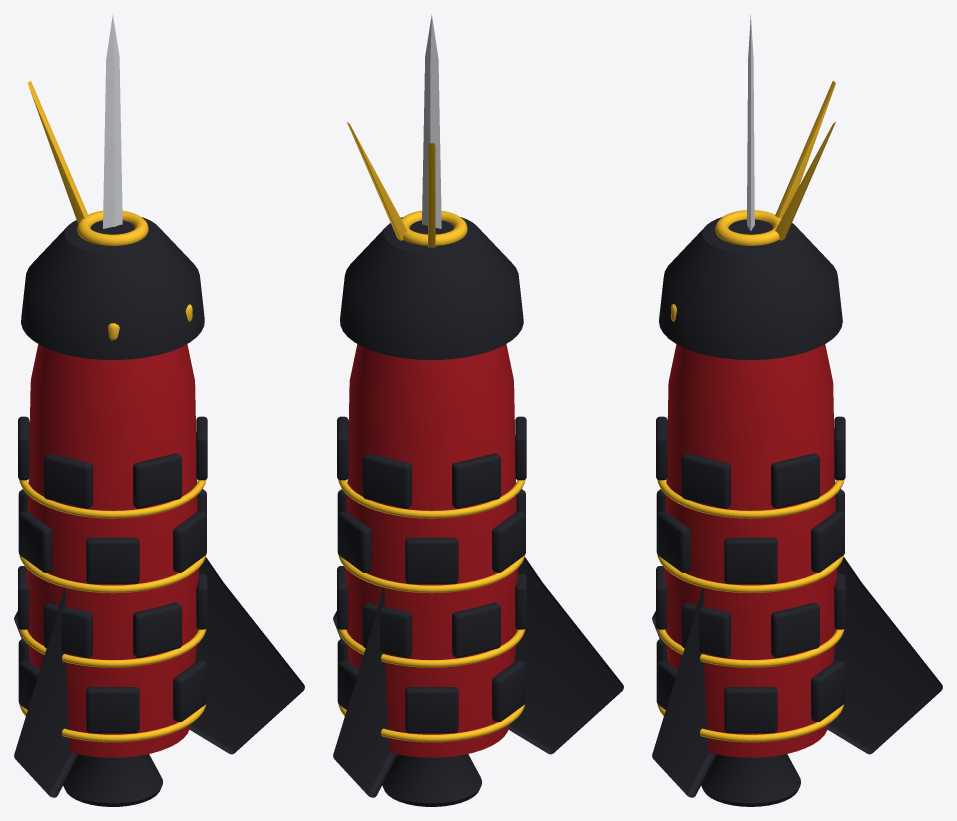
Rendered from Rocket_36_Samurai.fbx.
3 views of the same model, side by side, from view 1: azimuth 30°, elevation 25°; view 2: azimuth 150°, elevation 25°; view 3: azimuth 270°, elevation 25° (orthographic).
Parts seen in each view (by area): view 1: R36_Body, R36_Helmet, R36_Fin_3, R36_Fin_2, R36_Nozzle, R36_Blade, R36_ArmorPlate_17, R36_ArmorPlate_5, R36_ArmorPlate_22, R36_ArmorPlate_23, R36_ArmorPlate_11, R36_ArmorPlate_10 (+14 smaller); view 2: R36_Body, R36_Helmet, R36_Fin_2, R36_Fin, R36_Nozzle, R36_Blade, R36_ArmorPlate_15, R36_ArmorPlate_3, R36_ArmorPlate_20, R36_ArmorPlate_21, R36_ArmorPlate_9, R36_ArmorPlate_8 (+15 smaller); view 3: R36_Body, R36_Helmet, R36_Fin, R36_Fin_3, R36_Nozzle, R36_ArmorPlate_13, R36_ArmorPlate, R36_ArmorPlate_24, R36_ArmorPlate_19, R36_ArmorPlate_7, R36_ArmorPlate_12, R36_Lace_4 (+15 smaller).
Boxes of the visible parts, x1,y1,x2,y2 form: R36_Body: [26, 344, 199, 757]; R36_Helmet: [21, 217, 204, 359]; R36_Fin_3: [189, 557, 304, 754]; R36_Fin_2: [14, 587, 78, 797]; R36_Nozzle: [63, 754, 162, 806]; R36_Blade: [103, 14, 122, 228]; R36_ArmorPlate_17: [86, 537, 139, 583]; R36_ArmorPlate_5: [86, 687, 139, 733]; R36_ArmorPlate_22: [43, 453, 92, 508]; R36_ArmorPlate_23: [133, 453, 181, 508]; R36_ArmorPlate_11: [133, 602, 181, 657]; R36_ArmorPlate_10: [43, 602, 92, 657]; R36_Body: [345, 344, 518, 757]; R36_Helmet: [340, 217, 523, 359]; R36_Fin_2: [508, 557, 623, 754]; R36_Fin: [333, 587, 397, 797]; R36_Nozzle: [382, 754, 481, 806]; R36_Blade: [422, 14, 441, 228]; R36_ArmorPlate_15: [405, 537, 458, 583]; R36_ArmorPlate_3: [405, 687, 458, 733]; R36_ArmorPlate_20: [362, 453, 411, 508]; R36_ArmorPlate_21: [452, 453, 500, 508]; R36_ArmorPlate_9: [452, 602, 500, 657]; R36_ArmorPlate_8: [362, 602, 411, 657]; R36_Body: [664, 344, 837, 757]; R36_Helmet: [659, 217, 842, 359]; R36_Fin: [827, 557, 942, 754]; R36_Fin_3: [652, 587, 716, 797]; R36_Nozzle: [701, 754, 800, 806]; R36_ArmorPlate_13: [724, 537, 777, 583]; R36_ArmorPlate: [724, 687, 777, 733]; R36_ArmorPlate_24: [681, 453, 730, 508]; R36_ArmorPlate_19: [771, 453, 819, 508]; R36_ArmorPlate_7: [771, 602, 819, 657]; R36_ArmorPlate_12: [681, 602, 730, 657]; R36_Lace_4: [657, 480, 844, 518].
Size of the model in its own units: 3.45 by 8.8 by 3.
